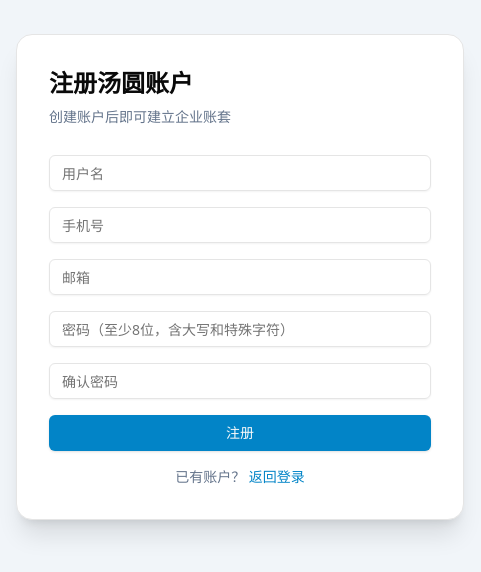
Test case: Register Page › shows client validation errors
Type "alice" into the field with placeholder "用户名" at {"x": 240, "y": 173}, box [49,155,431,191]
Type "13800000000" into the field with placeholder "手机号" at {"x": 240, "y": 225}, box [49,207,431,243]
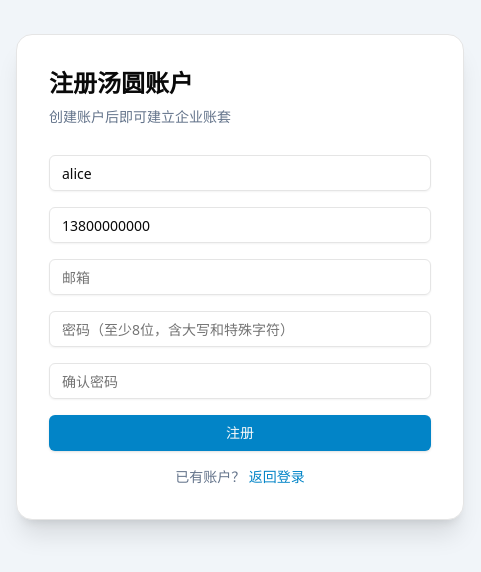
Type "a@example.com" into the field with placeholder "邮箱" at {"x": 240, "y": 277}, box [49,259,431,295]
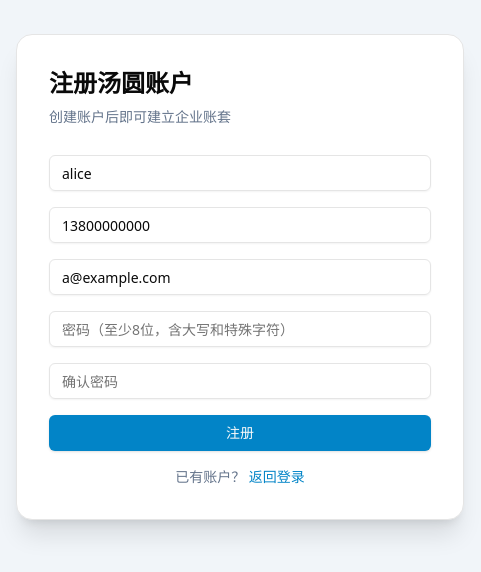
Type "Password1!" into the password field with placeholder "密码（至少8位，含大写和特殊字符）" at {"x": 240, "y": 329}, box [49,311,431,347]
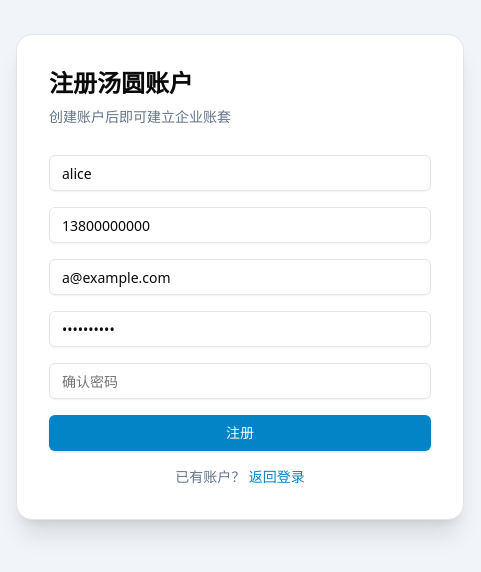
Type "Password1!" into the password field with placeholder "确认密码" at {"x": 240, "y": 381}, box [49,363,431,399]
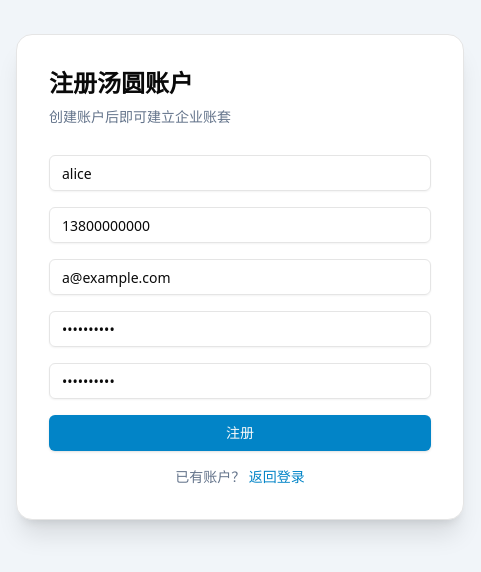
Replace the text in the 1st field with placeholder "用户名" with "a" at {"x": 240, "y": 173}, box [49,155,431,191]
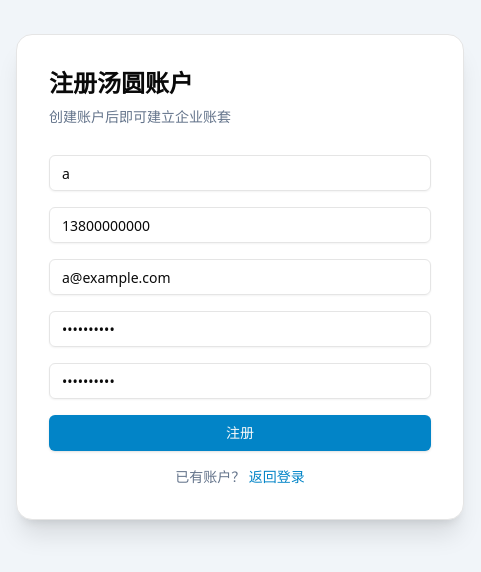
Click the button "注册" at {"x": 240, "y": 433}, box [49,415,431,451]
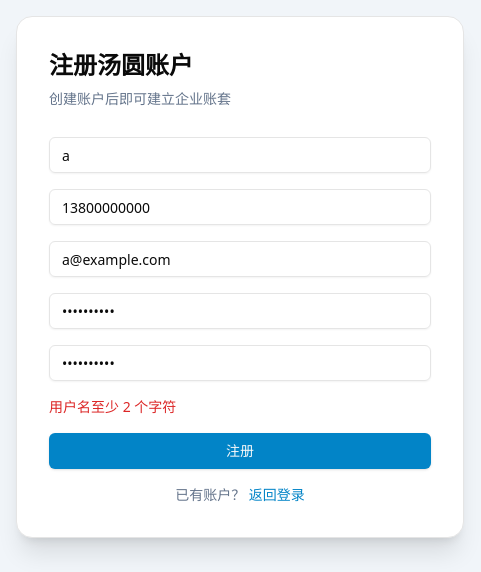
Result: the text "用户名至少 2 个字符" is shown at [49,397,176,416]
